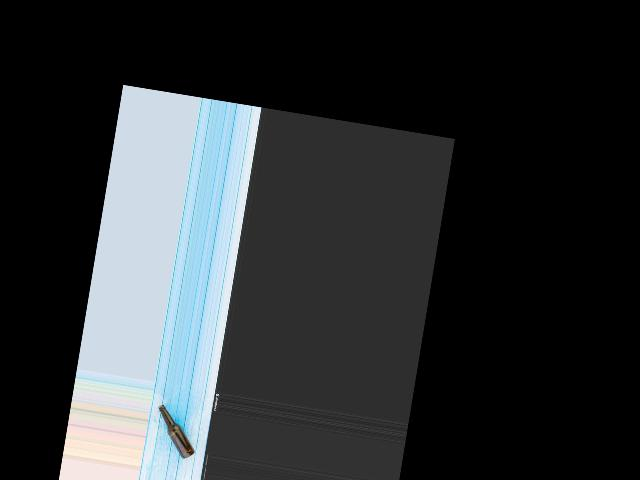beer: (150, 404, 202, 460)
